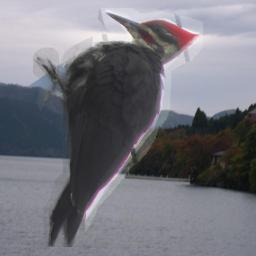Woodpecker: (33, 8, 203, 247)
